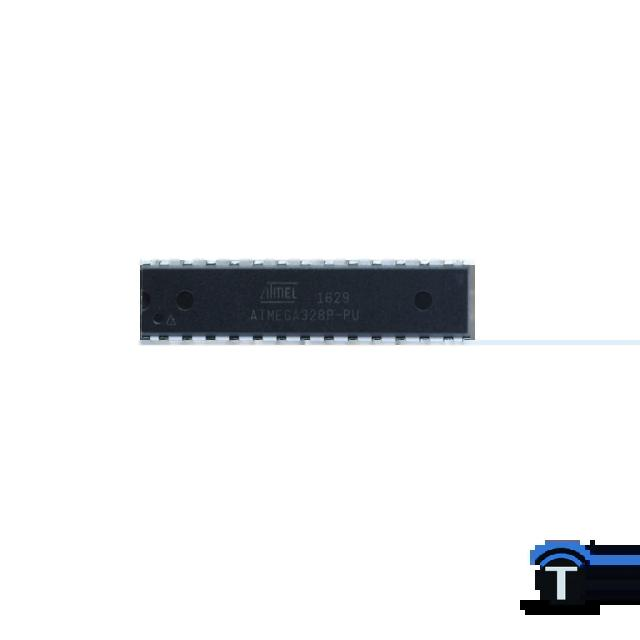atmega: (137, 256, 477, 346)
